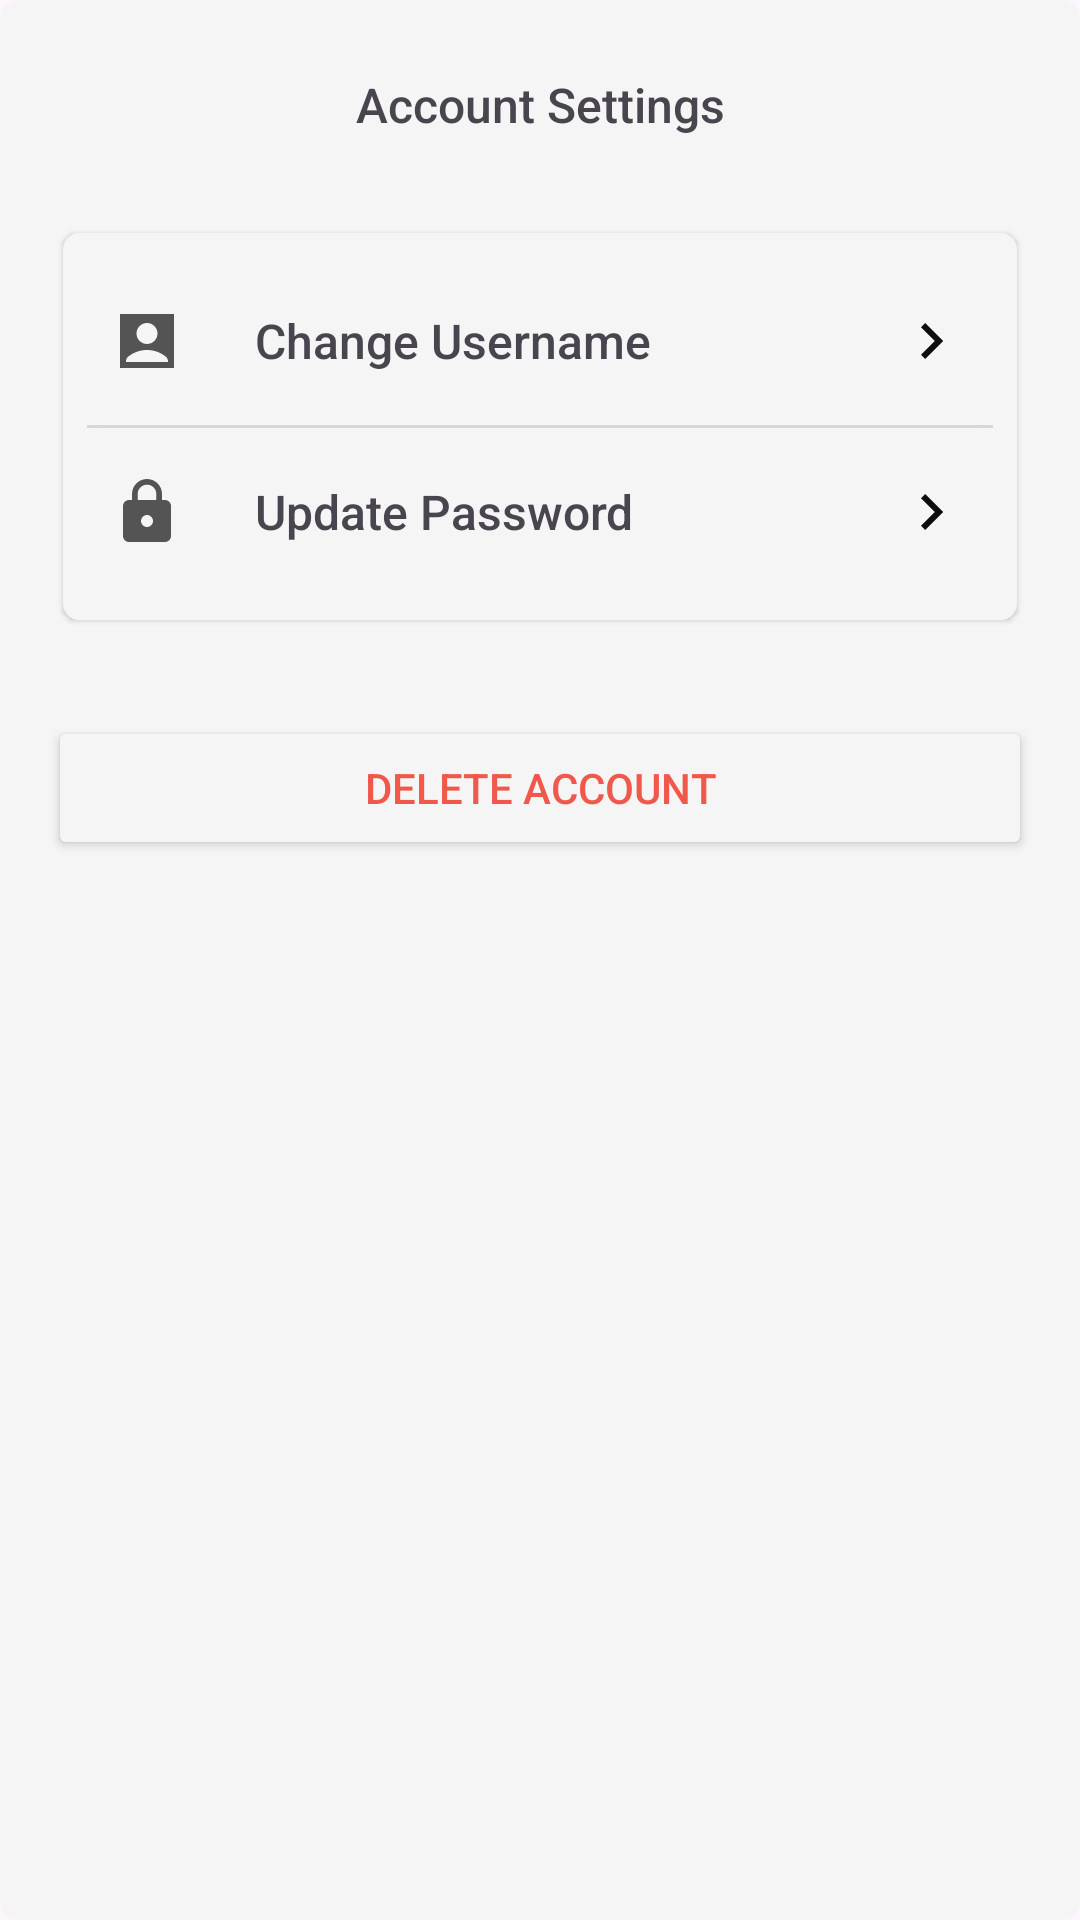

Icons on this 1080w x 1920h Android screen, each with the point to tap as (x=x, y=y):
account box: (x=147, y=341)
chevron right: (x=932, y=341), (x=932, y=512)
lock: (x=147, y=510)
